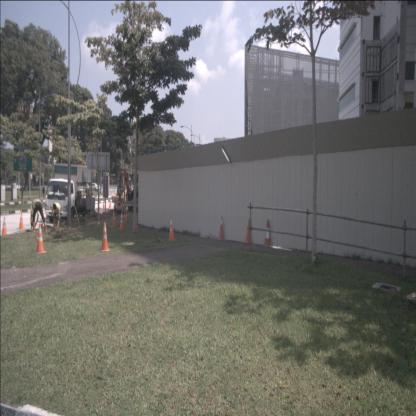movable_object-trafficcone: (35, 223, 46, 254), (99, 223, 110, 252), (262, 219, 273, 247), (242, 218, 253, 245), (216, 216, 226, 241), (167, 218, 176, 242), (0, 216, 9, 237), (17, 212, 26, 230), (118, 212, 126, 232), (111, 209, 118, 228), (134, 217, 140, 234), (125, 208, 130, 223), (108, 201, 112, 209), (102, 200, 105, 210)
vehicle-car: (87, 182, 100, 192)
vehicle-truck: (45, 163, 92, 225)
